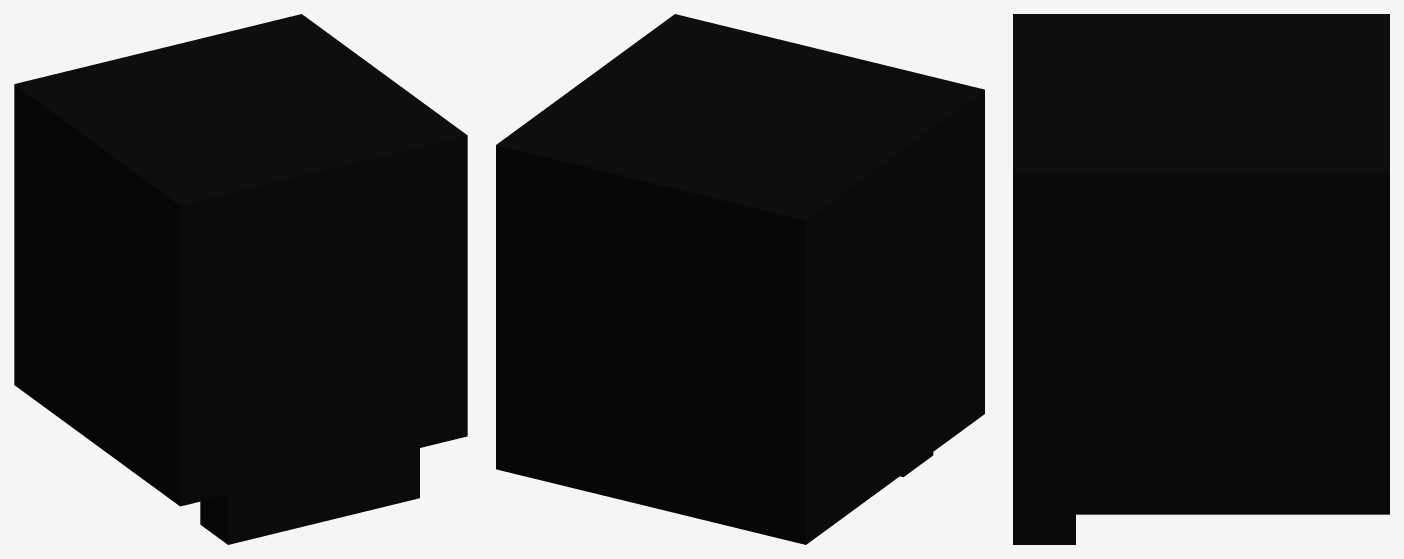
Rendered from sl_rising_souls.glb.
3 renders of one model, left to right at view 1: azimuth 30°, elevation 25°; view 2: azimuth 150°, elevation 25°; view 3: azimuth 270°, elevation 25°, orthographic. The views are drawn at different scales.
Parts seen in each view (by area): view 1: bb_rising_souls; view 2: bb_rising_souls; view 3: bb_rising_souls.
Boxes of the visible parts, x1,y1,x2,y2 form: bb_rising_souls: [14, 14, 467, 544]; bb_rising_souls: [496, 14, 984, 544]; bb_rising_souls: [1013, 14, 1389, 544].
Size of the model in its own units: 0.375 by 0.4375 by 0.375.
Materials: 1 (1 with a texture image).
